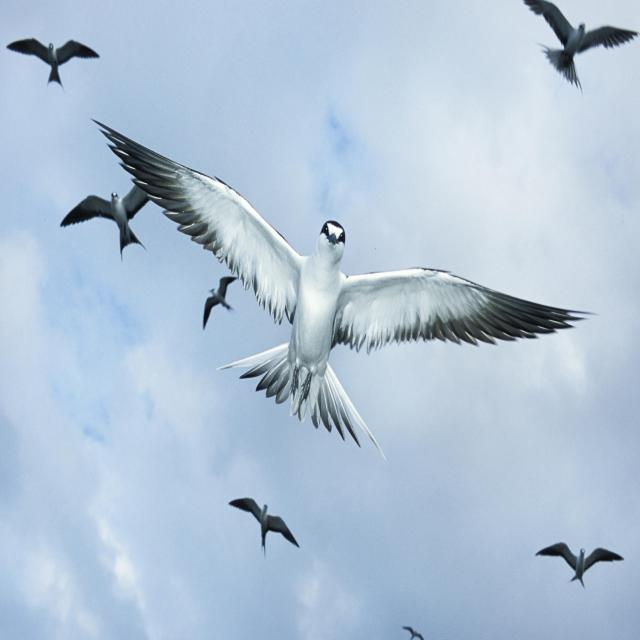bird: (107, 135, 608, 461), (501, 3, 638, 94), (62, 191, 152, 262), (6, 36, 100, 88), (226, 499, 300, 560), (534, 545, 626, 591), (402, 625, 438, 640)
